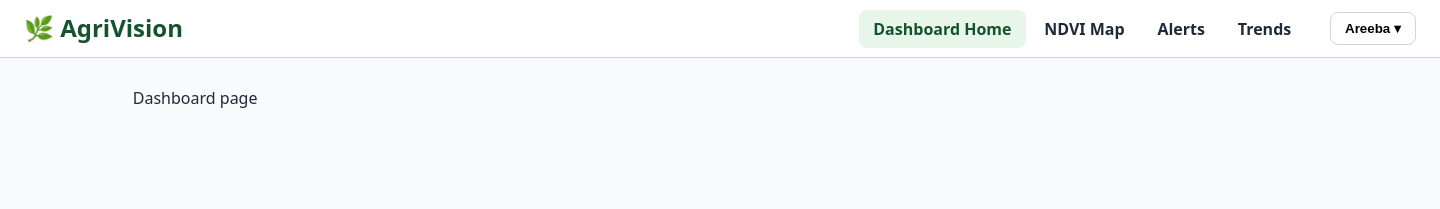
Scenario: Profile menu › opens to show the user and closes with Escape
Click the button "Areeba ▾" at (1373, 29), box [1330, 12, 1416, 45]
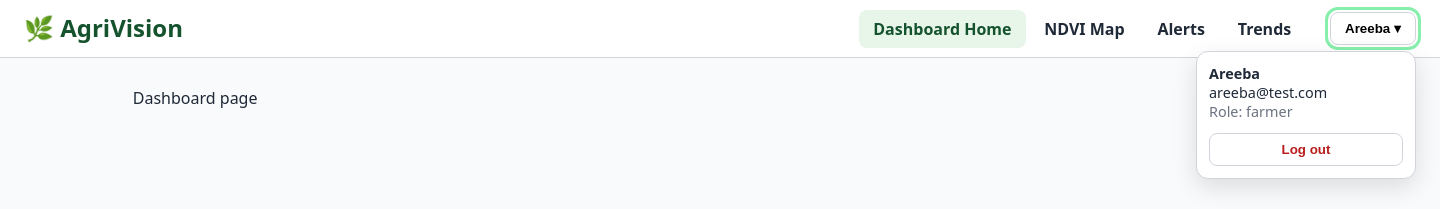
Now the text "areeba@test.com" is shown, box [1209, 84, 1327, 102]
Press Escape
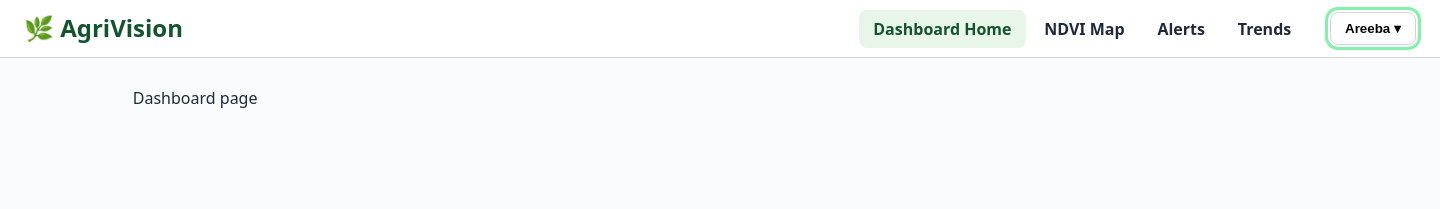
Now the menu is gone
